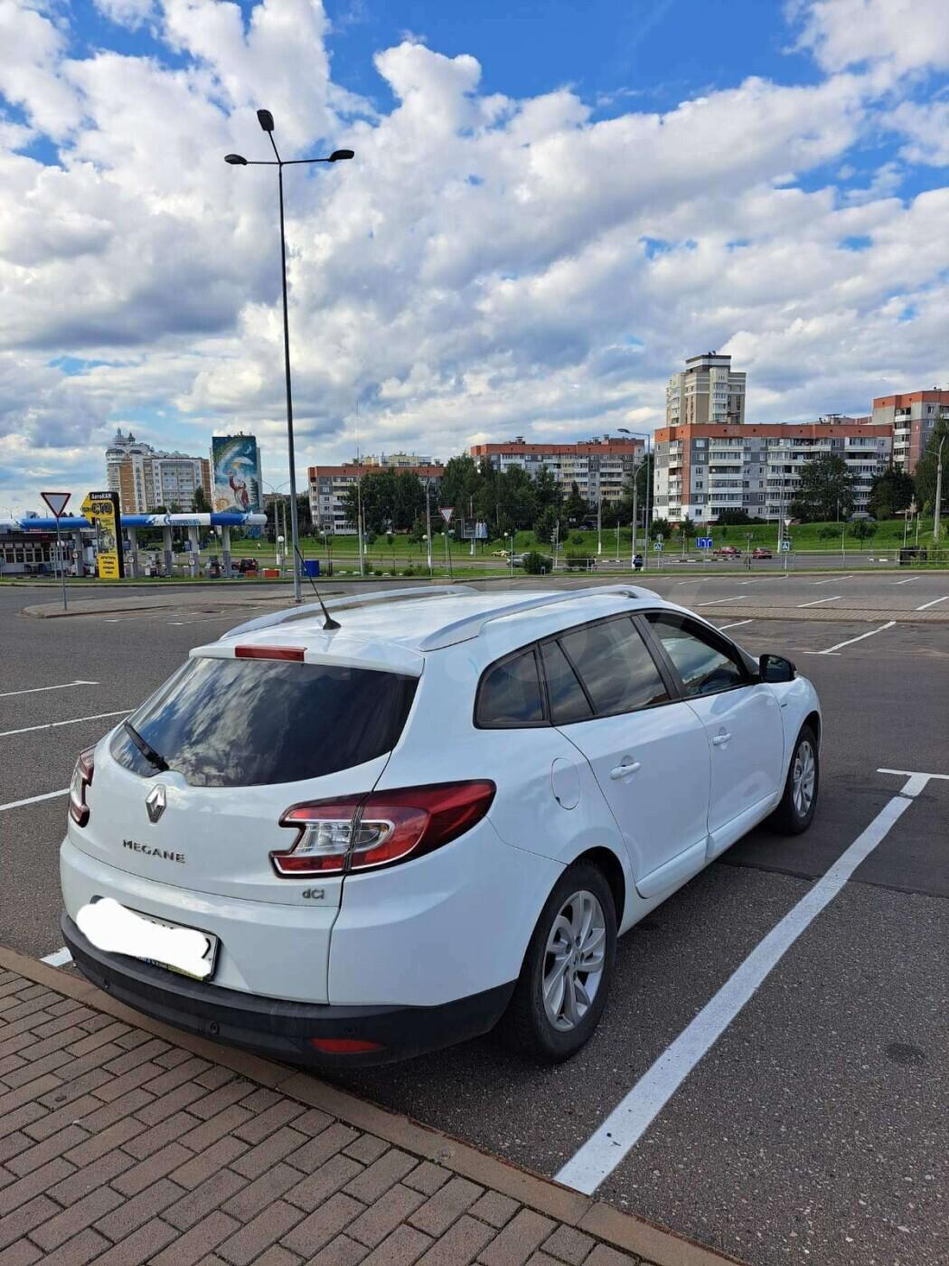Megane_2014-2016: (61, 577, 855, 1054)
